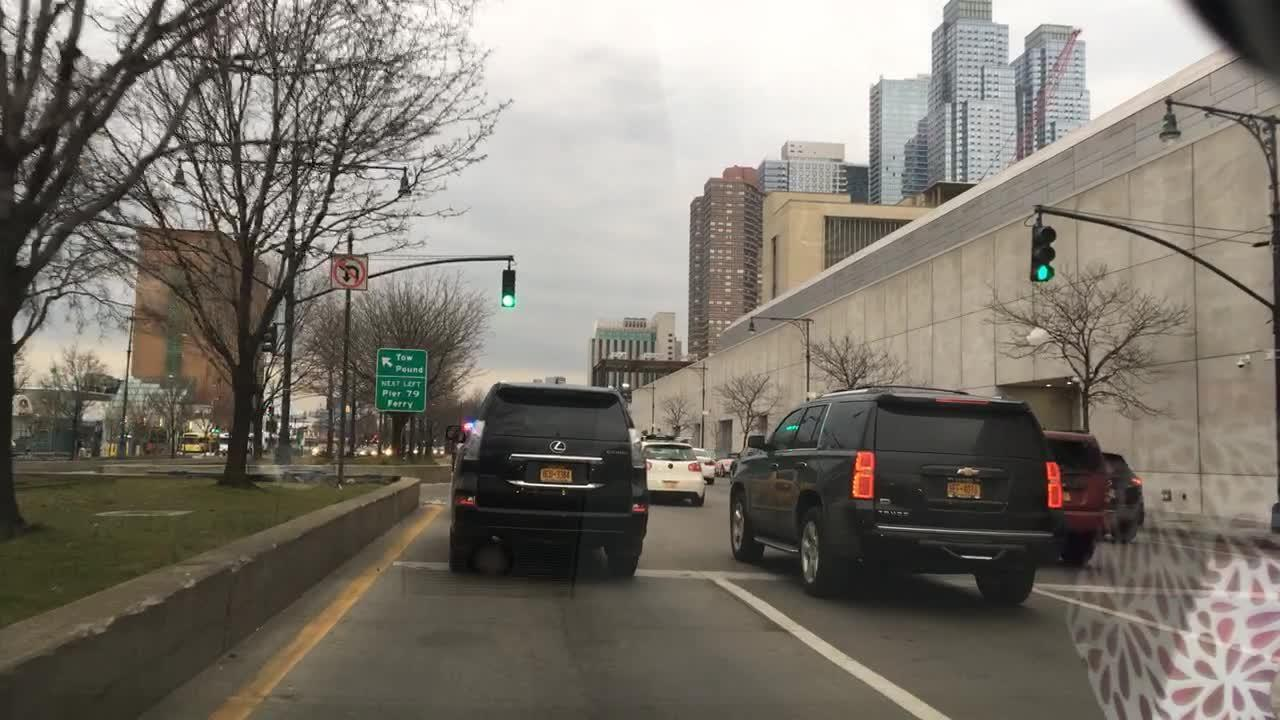chevrolet: (952, 463, 984, 481)
lexus: (544, 435, 572, 456)
